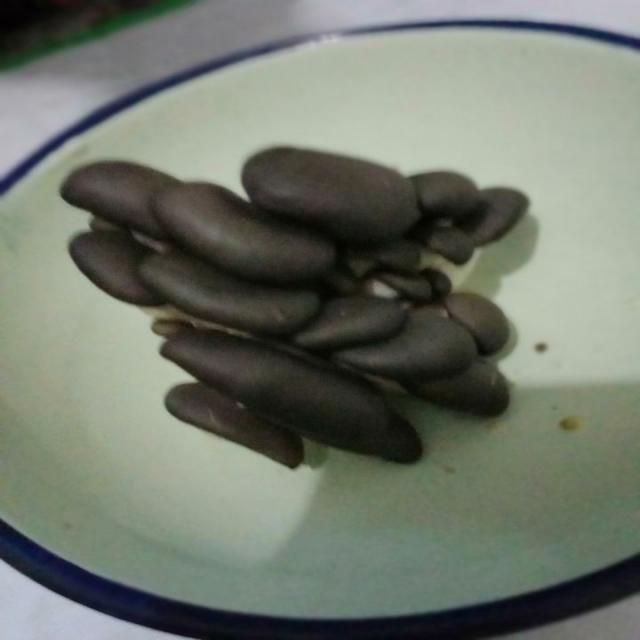Pleurotus ostreatus: (56, 147, 532, 474)
